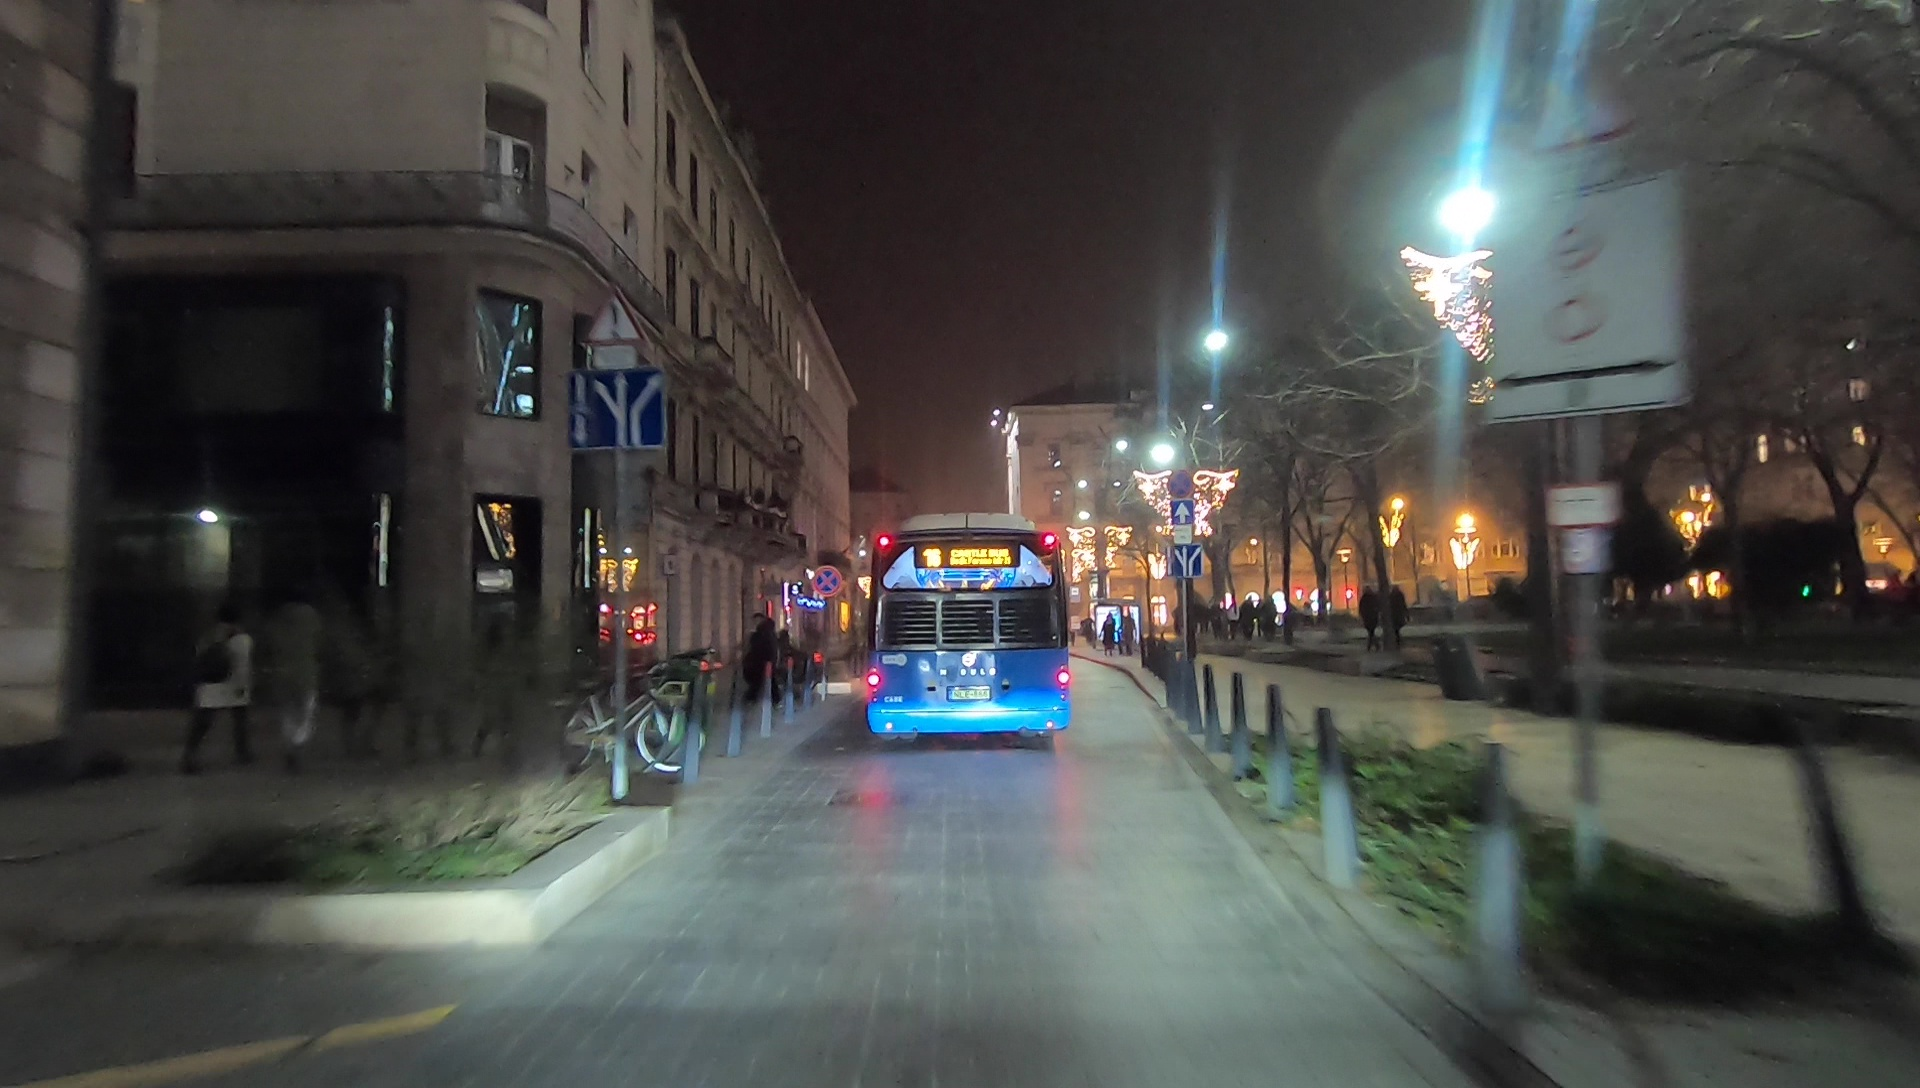person: (176, 610, 260, 767), (260, 593, 319, 771), (743, 612, 784, 706), (1361, 584, 1383, 651), (1386, 583, 1408, 647), (1100, 611, 1114, 656), (1121, 609, 1134, 657)
